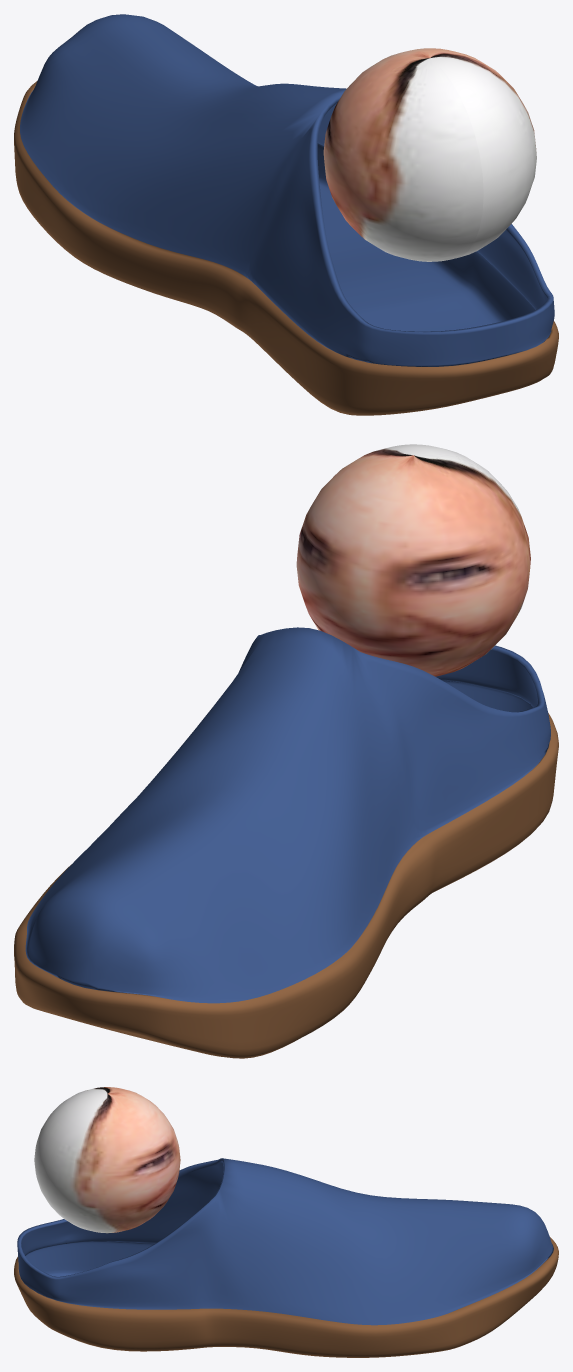
The model's file is Heely.fbx.
3 views of the same model, one above another, from view 1: azimuth 30°, elevation 25°; view 2: azimuth 150°, elevation 25°; view 3: azimuth 270°, elevation 25° (orthographic). The views are drawn at different scales.
Visible parts, largest first — view 1: Plane, Cylinder; view 2: Plane, Cylinder; view 3: Plane, Cylinder.
Boxes of the visible parts, box(x1,y1,x2,y2) form: Plane: box(14, 14, 558, 415); Cylinder: box(323, 48, 536, 261); Plane: box(14, 627, 558, 1058); Cylinder: box(296, 444, 530, 676); Plane: box(14, 1158, 558, 1357); Cylinder: box(34, 1087, 180, 1233).
Size of the model in its own units: 177 by 193 by 426.
